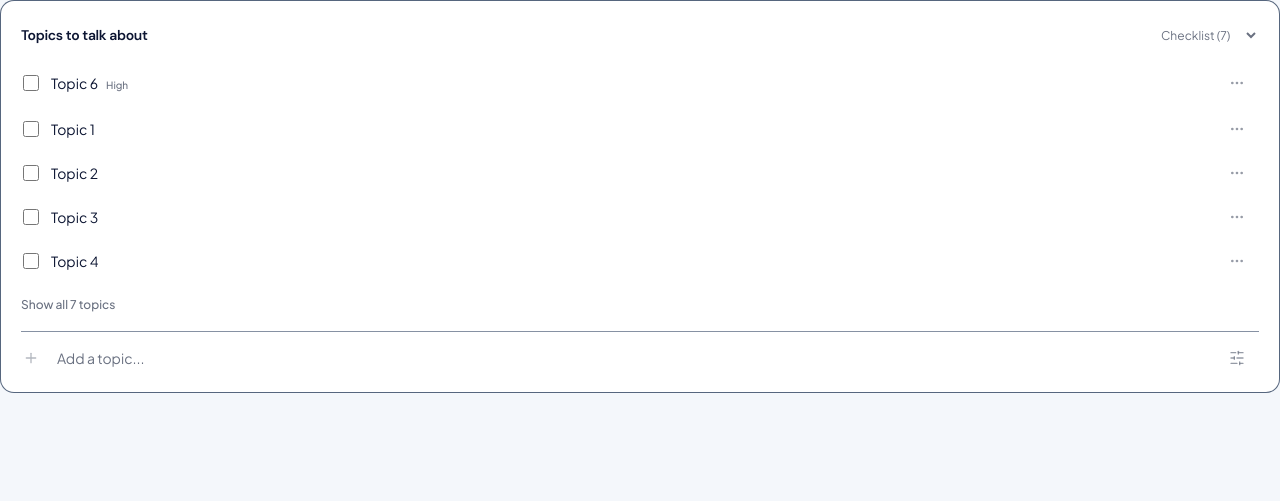
Test: topics panel › shows five rows ordered by priority and expands the full list
Expected: the number of list items is 5, [21,61,1259,107]; [21,107,1259,151]; [21,151,1259,195]; [21,195,1259,239]; [21,239,1259,283]
Click the button "Show all 7 topics" at {"x": 68, "y": 305}, box [21,283,115,327]
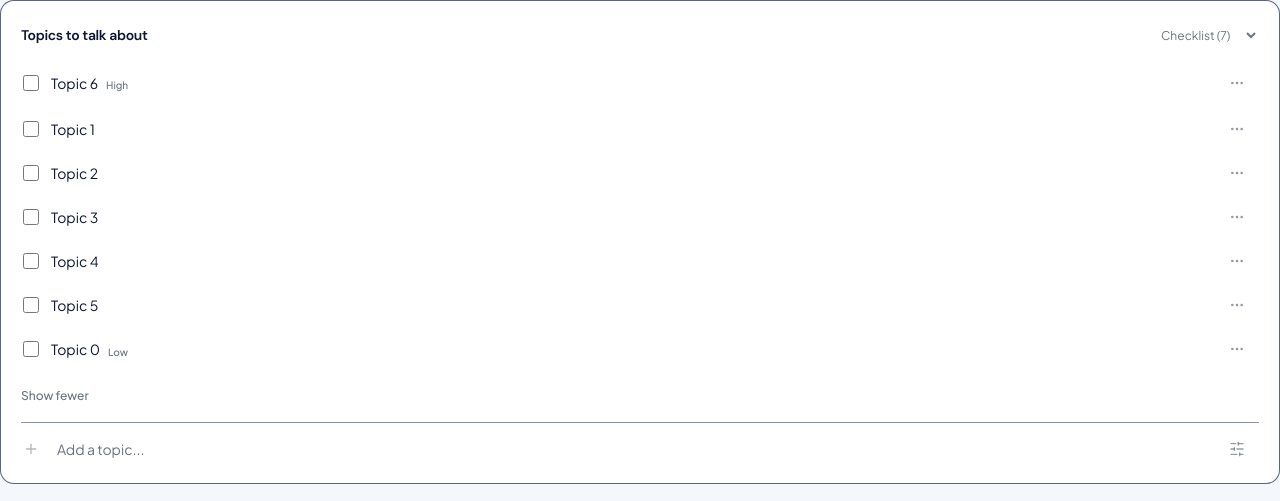
Expected: the number of list items is 7
Click the button "Show fewer" at {"x": 55, "y": 396}, box [21,374,89,418]
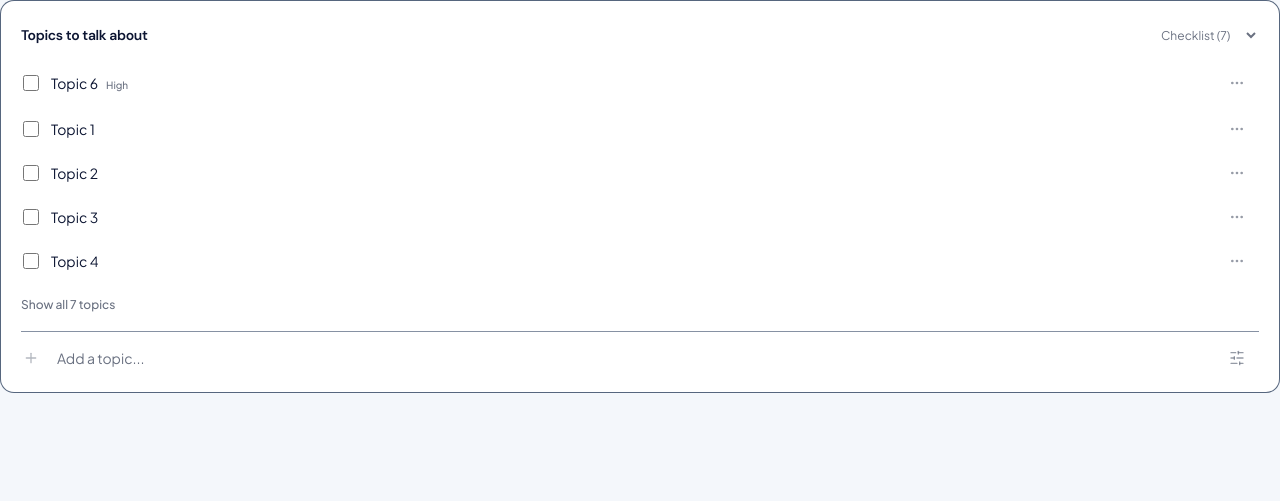
Expected: the number of list items is 5, [21,61,1259,107]; [21,107,1259,151]; [21,151,1259,195]; [21,195,1259,239]; [21,239,1259,283]
